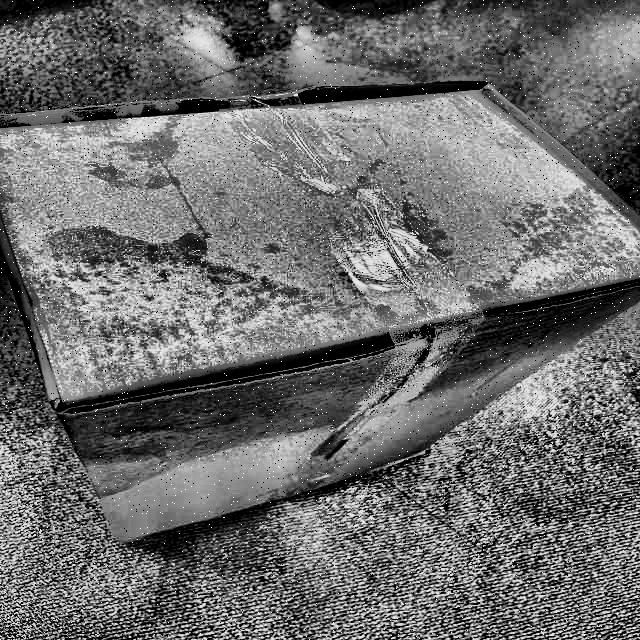box: (0, 74, 640, 562)
wet: (32, 201, 321, 509)
